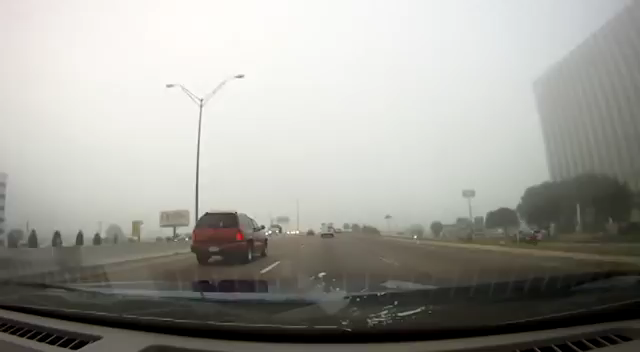bus: (319, 221, 335, 238)
car: (190, 211, 270, 263), (267, 226, 281, 237), (306, 229, 315, 236)
